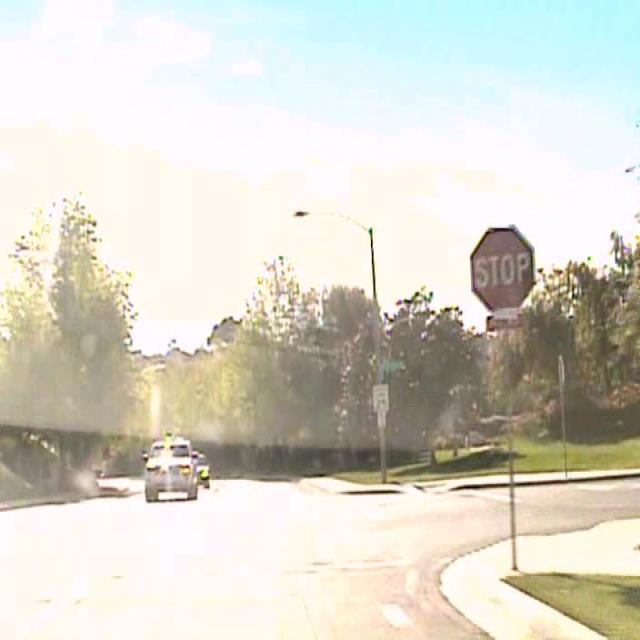stop: (469, 225, 536, 314)
